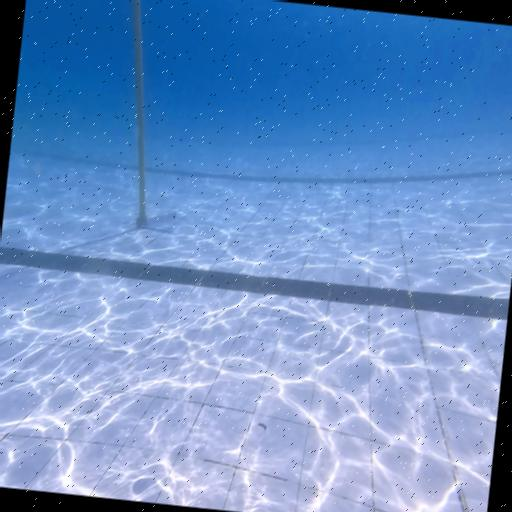pole_gate: (103, 0, 170, 226)
